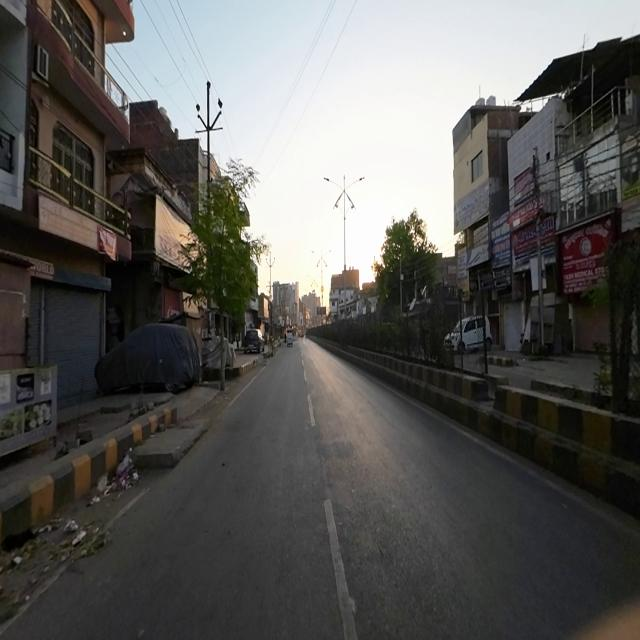Garbage: (99, 452, 137, 498)
